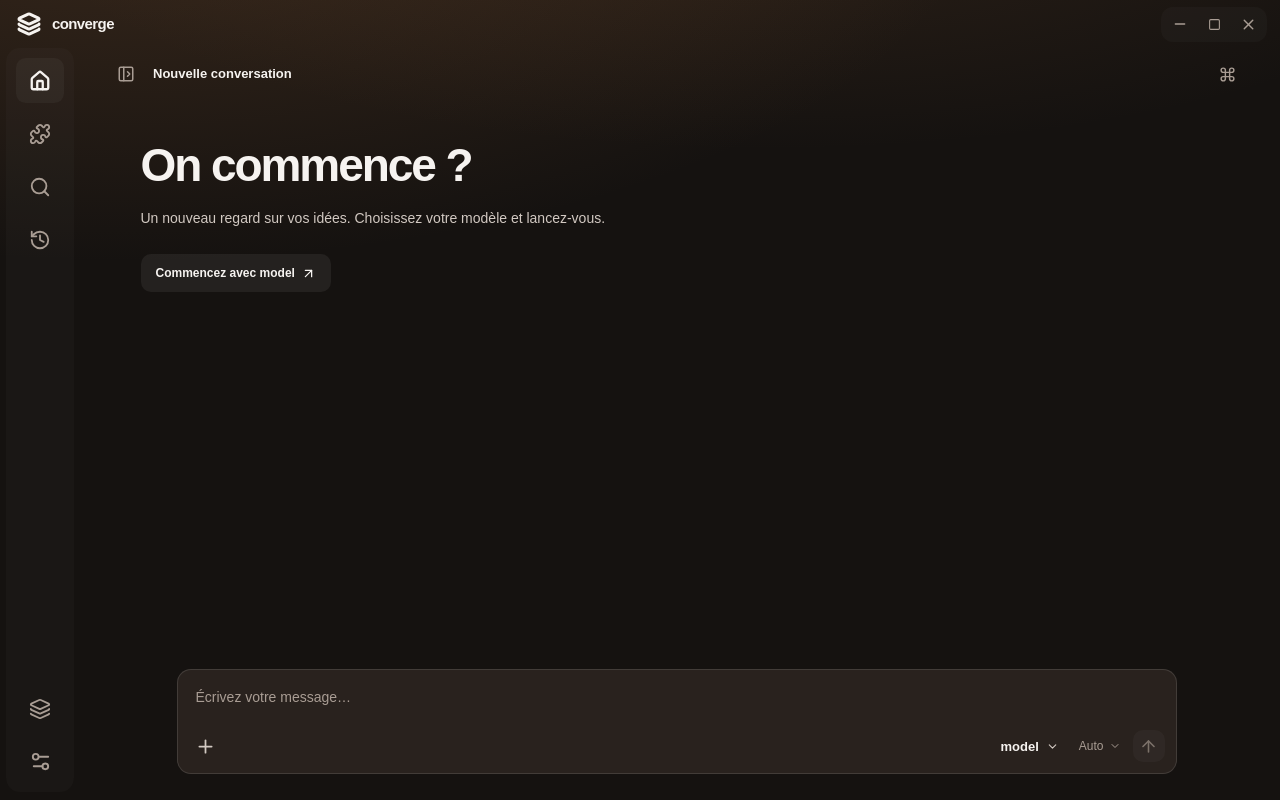
Test: waits for GUI permission, executes once and automatically feeds the result back to the model
Type "Crée hello.txt avec hello" into the text box labelled "votre message".
click(676, 698); type("Crée hello.txt avec hello")  # box [178,670,1176,726]
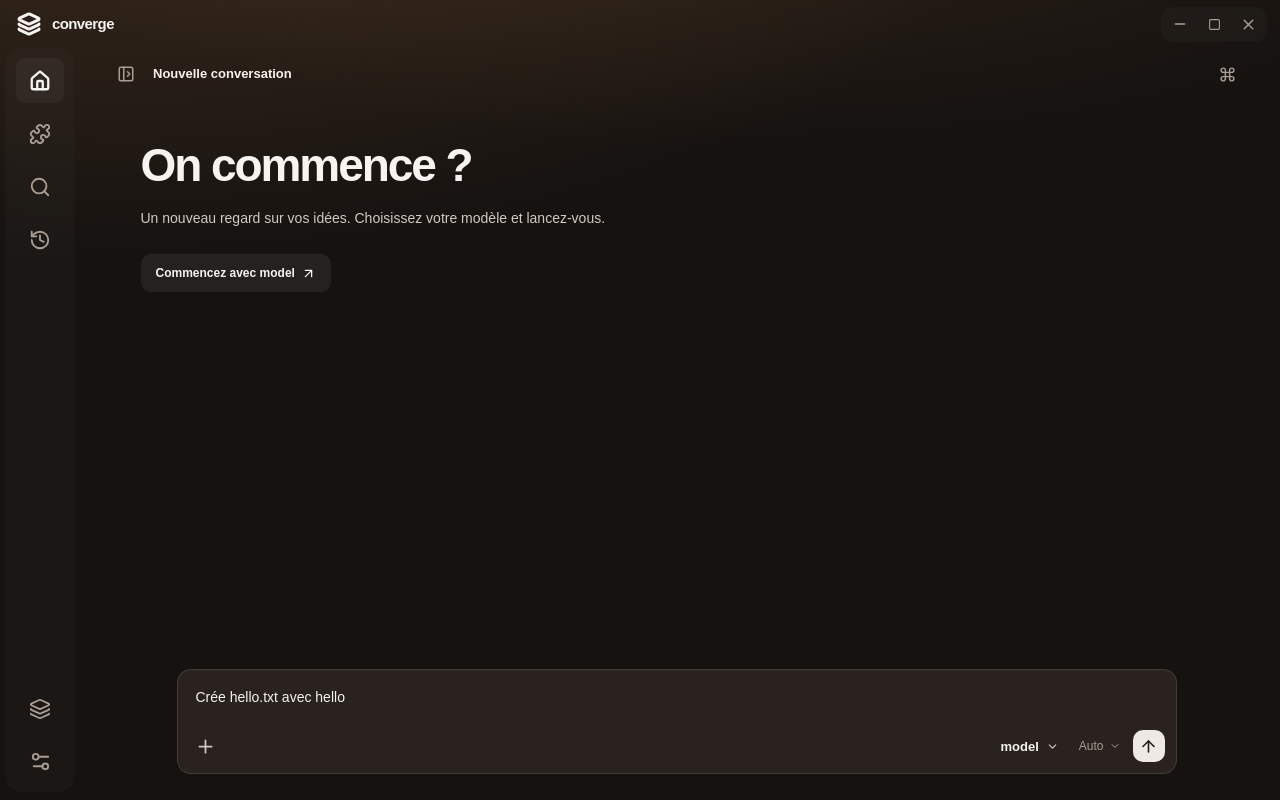
Click the button named "Envoyer".
click(1148, 746)  # box [1132,730,1164,762]
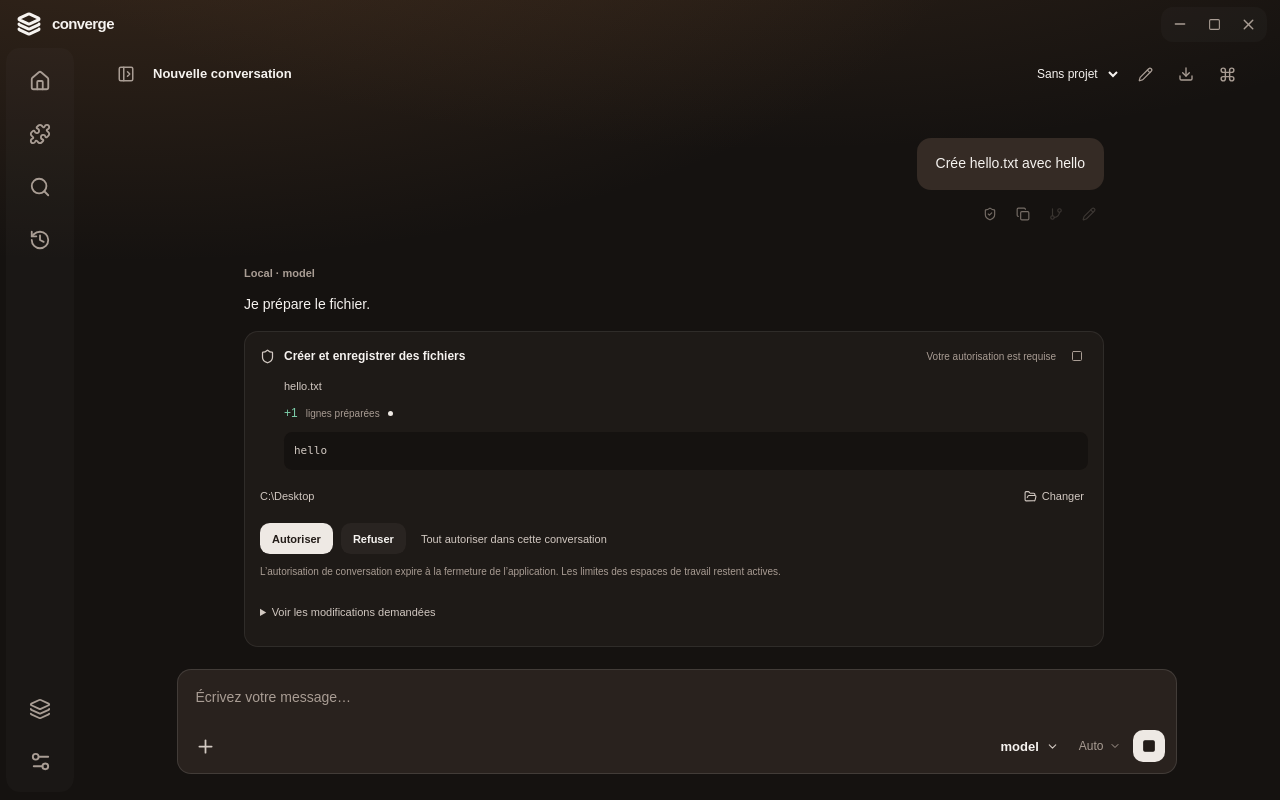
Now the button "Autoriser" is shown
Click the button "Autoriser".
click(296, 539)  # box [260,523,332,554]
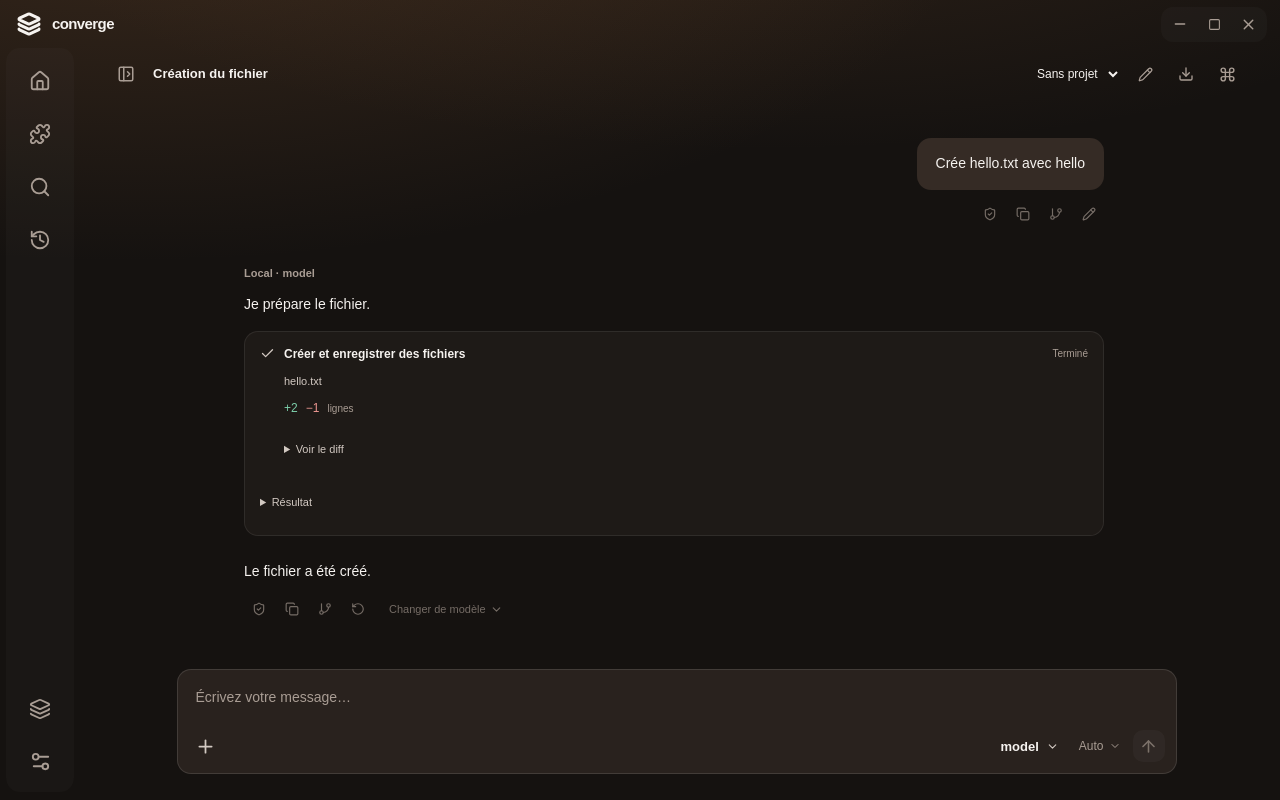
Now the text "Le fichier a été créé." is shown, box [244,563,370,579]
Now the text "+2" is shown, box [284,399,297,417]
Now the text "−1" is shown, box [305,399,319,417]
